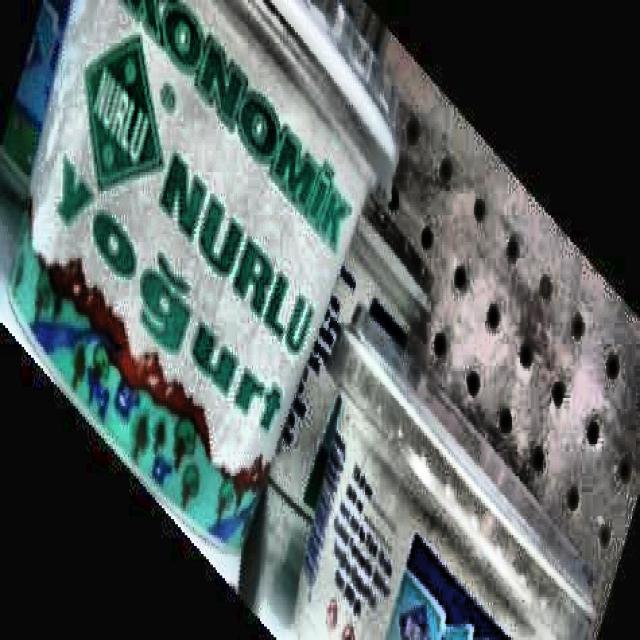plastic: (9, 0, 395, 583)
